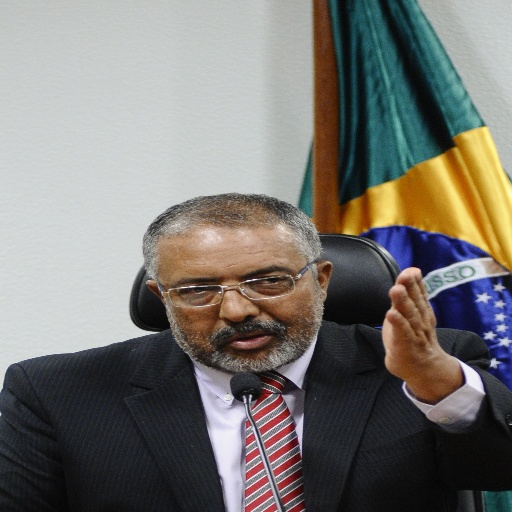hand: (374, 270, 465, 397)
